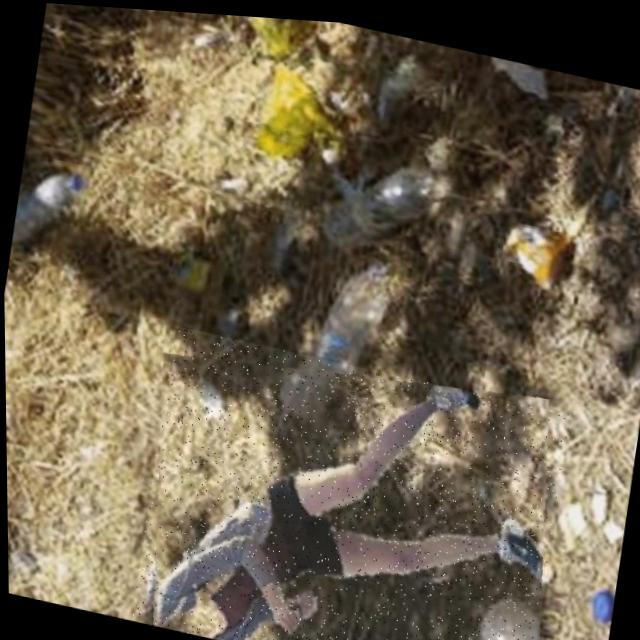Person in Rubble: (127, 319, 571, 640)
